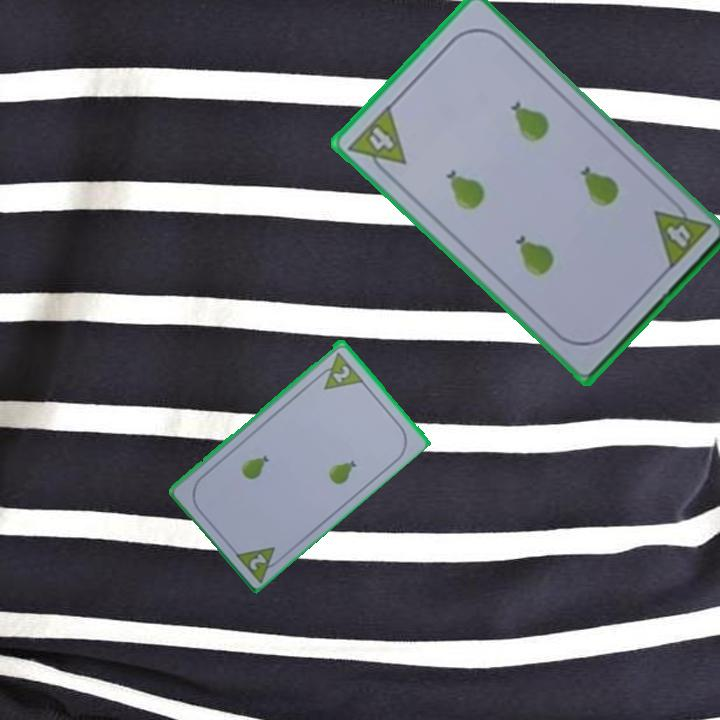2p: (230, 542, 287, 584), (312, 348, 365, 392)
4p: (344, 101, 409, 182), (650, 193, 712, 273)
